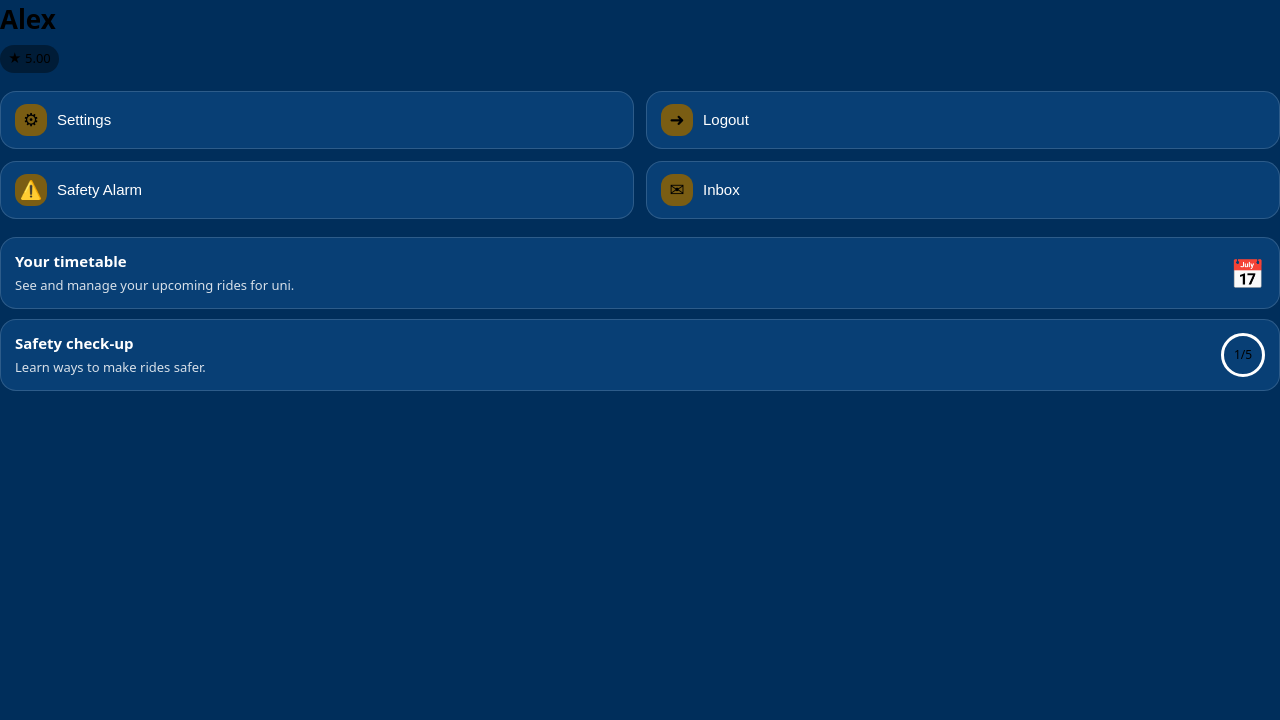
AccountPage Component › opens the safety toolkit modal when the safety alarm is clicked
Click the text "Safety Alarm": [100, 190] box [57, 181, 142, 198]
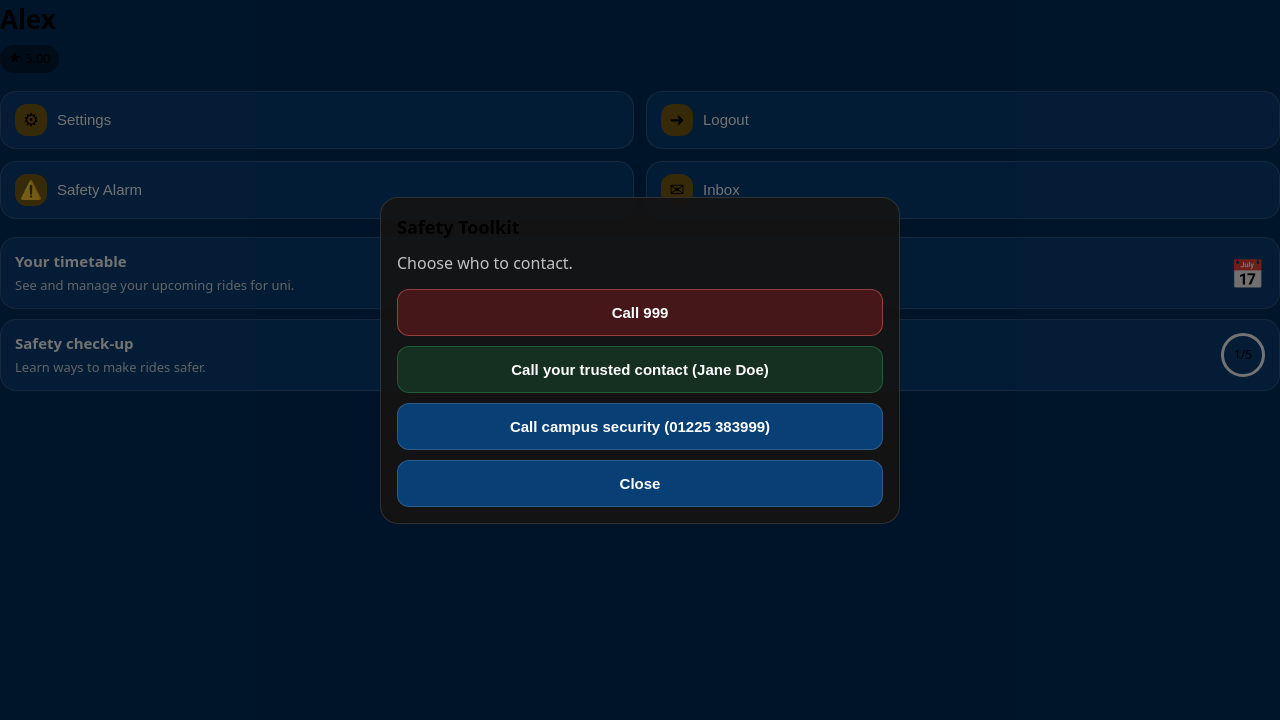
expect the button "Call your trusted contact (Jane Doe)" is shown: met, box [397, 346, 883, 392]
